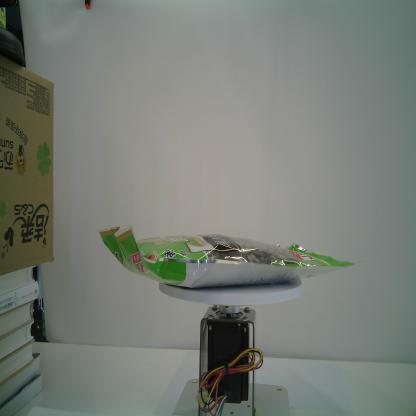Dried Food: (98, 226, 364, 288)
